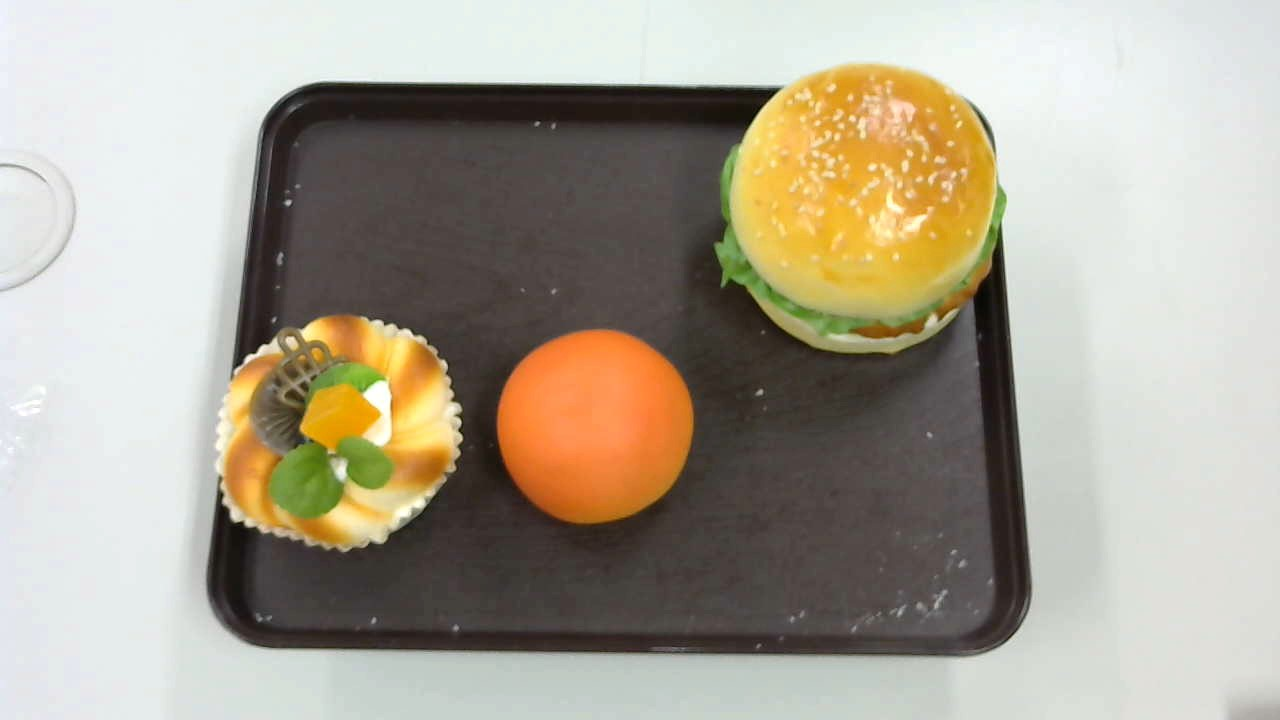bun: (496, 330, 694, 527)
fruit tart: (214, 314, 463, 551)
hamburger: (713, 61, 1006, 356)
